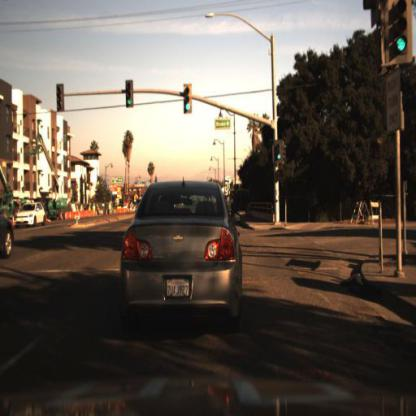car: (117, 174, 248, 332), (2, 199, 23, 278), (17, 201, 47, 228)
trafficLight: (179, 77, 193, 117), (121, 73, 133, 109), (50, 79, 62, 113)
trafficLight-Green: (381, 2, 416, 70), (275, 132, 291, 171)
